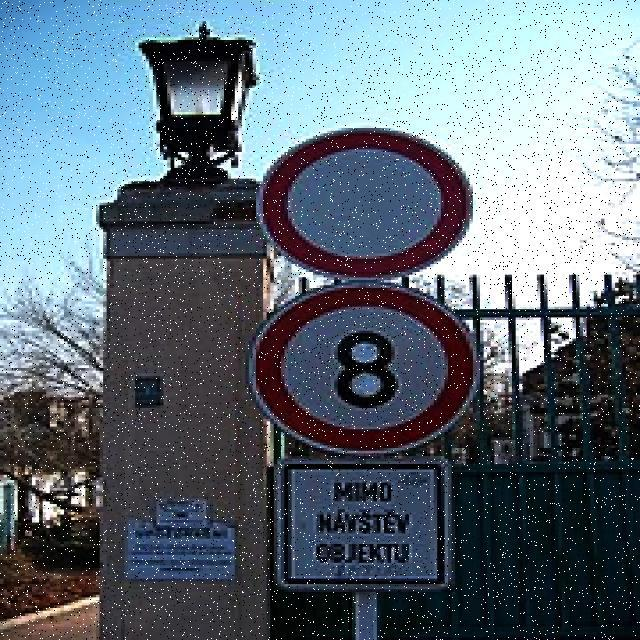Traffic sign: (247, 116, 484, 601)
